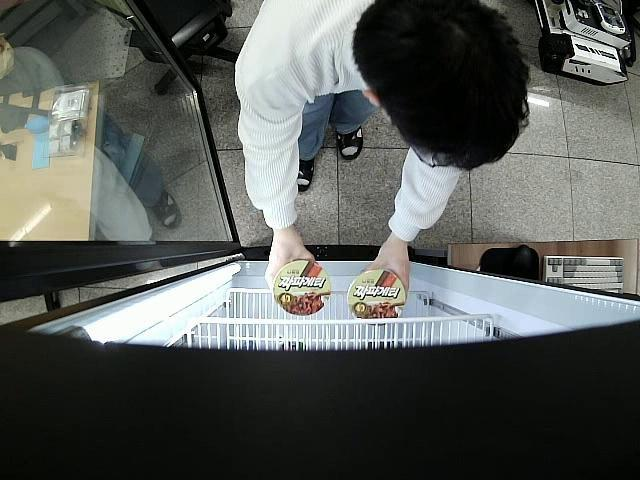03_chapagetti_L: (350, 269, 406, 324), (274, 262, 333, 314)
